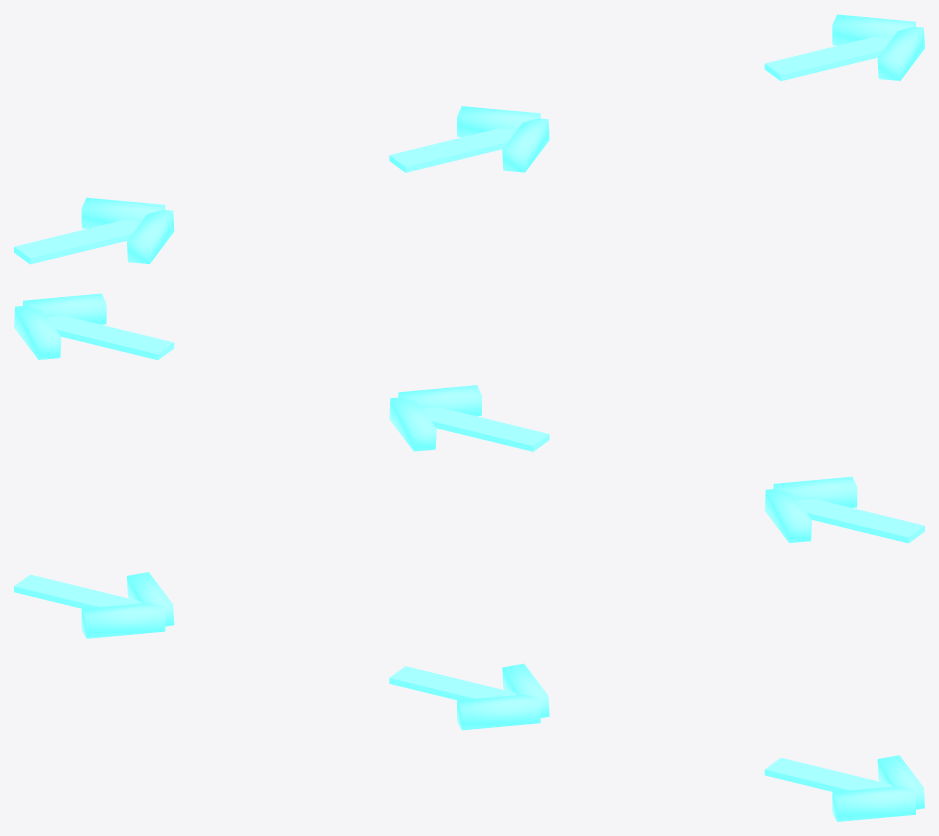
The model's file is floor_decal_path_arrows.glb.
3 views of the same model, one above another, from view 1: azimuth 30°, elevation 25°; view 2: azimuth 150°, elevation 25°; view 3: azimuth 330°, elevation 25° (orthographic).
Visible parts, largest first — view 1: GD_floor_decal_path_arrows__m0; view 2: GD_floor_decal_path_arrows__m0; view 3: GD_floor_decal_path_arrows__m0.
Boxes of the visible parts, x1=… form: GD_floor_decal_path_arrows__m0: x1=14, y1=14, x2=924, y2=264; GD_floor_decal_path_arrows__m0: x1=14, y1=293, x2=924, y2=543; GD_floor_decal_path_arrows__m0: x1=14, y1=572, x2=924, y2=821.
Bounding box in the file's own units: 1.91 × 0.0444 × 0.2329.
